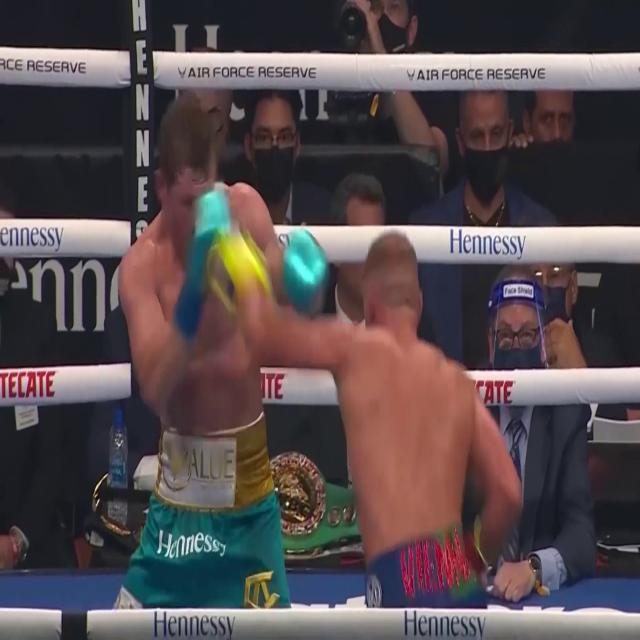boxer_1: (342, 233, 475, 564)
boxer_2: (139, 98, 265, 437)
gloves_1: (207, 229, 270, 311), (467, 523, 488, 579)
gloves_2: (174, 183, 231, 340), (282, 228, 337, 319)
